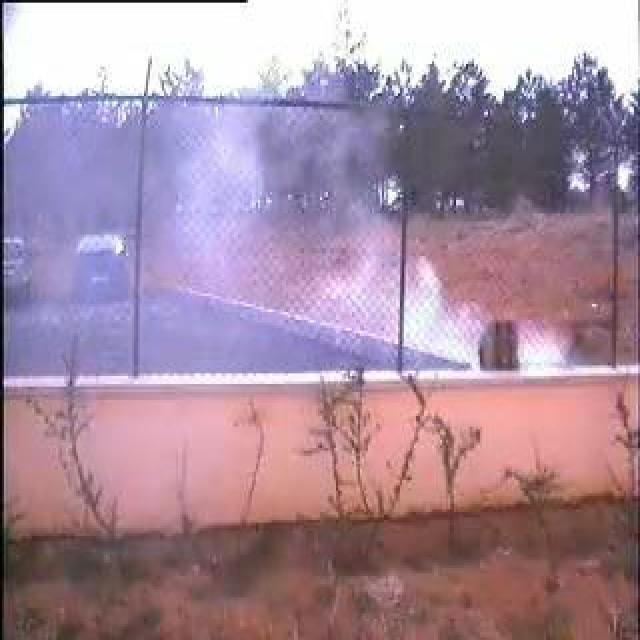Smoke: (159, 105, 295, 276), (376, 249, 560, 372)
